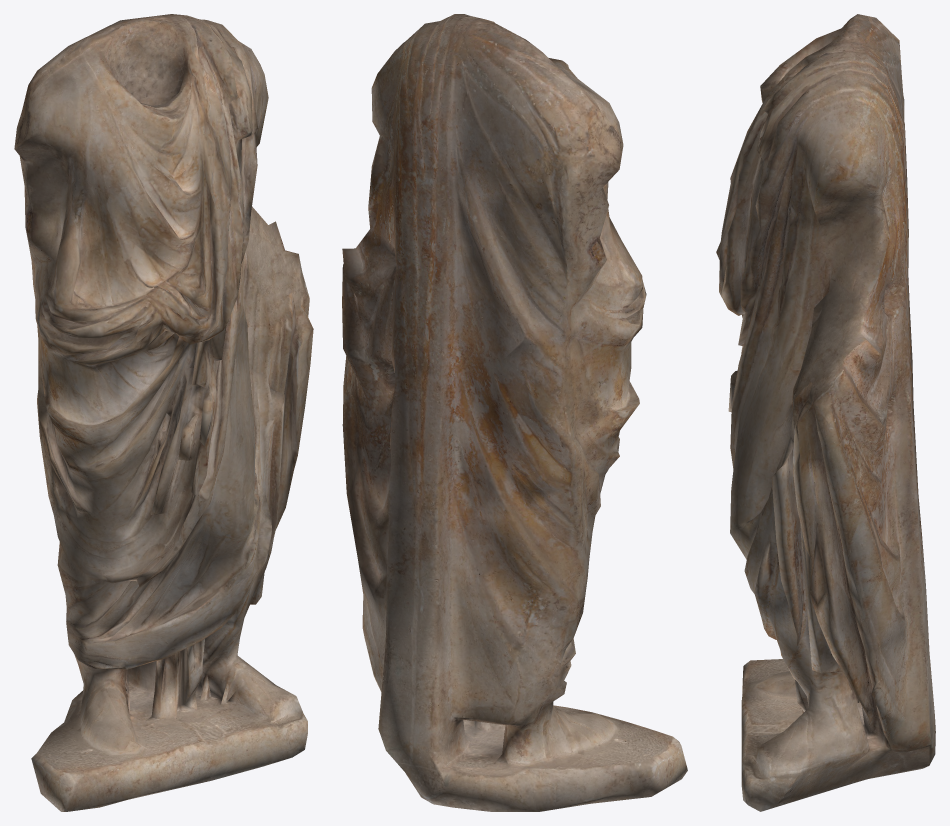
The model's file is Roman Statue_LOD4__tgsibj3fa.gltf.
3 renders of one model, left to right at view 1: azimuth 30°, elevation 25°; view 2: azimuth 150°, elevation 25°; view 3: azimuth 270°, elevation 25°, orthographic. The views are drawn at different scales.
Parts seen in each view (by area): view 1: Aset_stone_carved_L_tgsibj3fa_LOD4; view 2: Aset_stone_carved_L_tgsibj3fa_LOD4; view 3: Aset_stone_carved_L_tgsibj3fa_LOD4.
Boxes of the visible parts, bbox=[...] form: Aset_stone_carved_L_tgsibj3fa_LOD4: bbox=[14, 14, 313, 811]; Aset_stone_carved_L_tgsibj3fa_LOD4: bbox=[342, 14, 687, 811]; Aset_stone_carved_L_tgsibj3fa_LOD4: bbox=[716, 14, 935, 811].
Bounding box in the file's own units: 80 × 196 × 53.22.
Materials: 1 (1 with a texture image).
